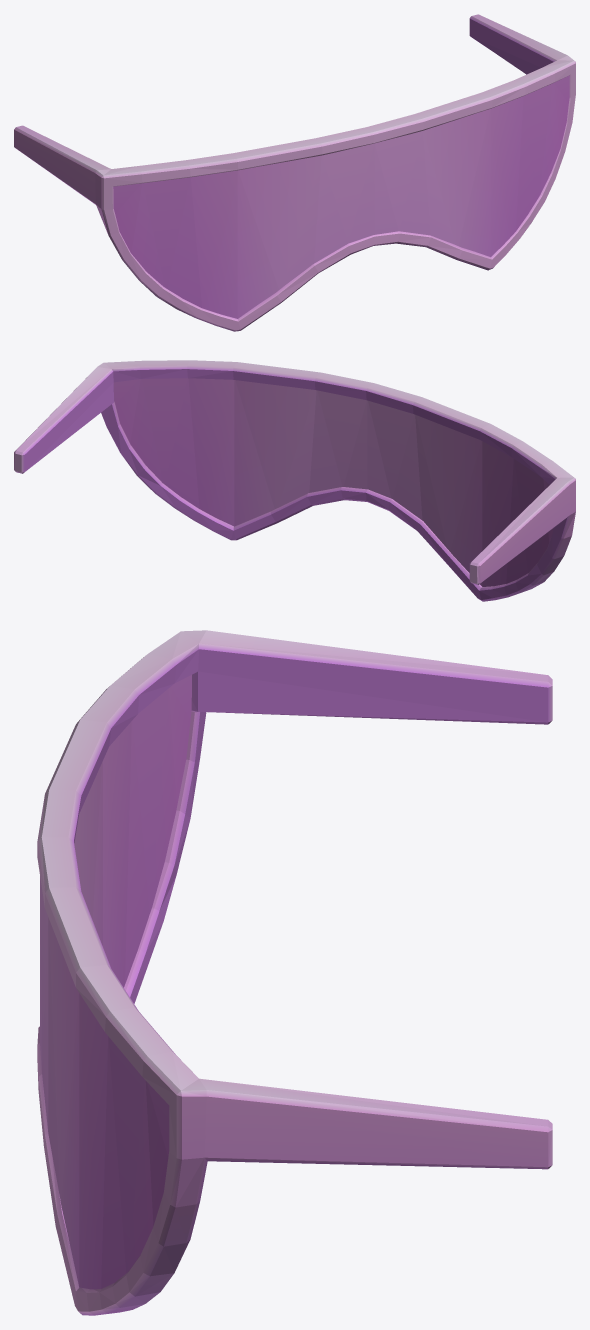
Rendered from Addons_Glasses_TomHighTech.glb.
3 views of the same model, one above another, from view 1: azimuth 30°, elevation 25°; view 2: azimuth 150°, elevation 25°; view 3: azimuth 270°, elevation 25° (orthographic). The views are drawn at different scales.
Visible parts, largest first — view 1: Glass, Frame; view 2: Glass, Frame; view 3: Frame, Glass.
Boxes of the visible parts, <box> form: Glass: <box>113,75,569,318</box>; Frame: <box>14,14,575,331</box>; Glass: <box>113,378,553,586</box>; Frame: <box>14,360,575,601</box>; Frame: <box>37,630,552,1315</box>; Glass: <box>40,675,191,1289</box>.
Size of the model in its own units: 0.4767 by 0.1686 by 0.224.
